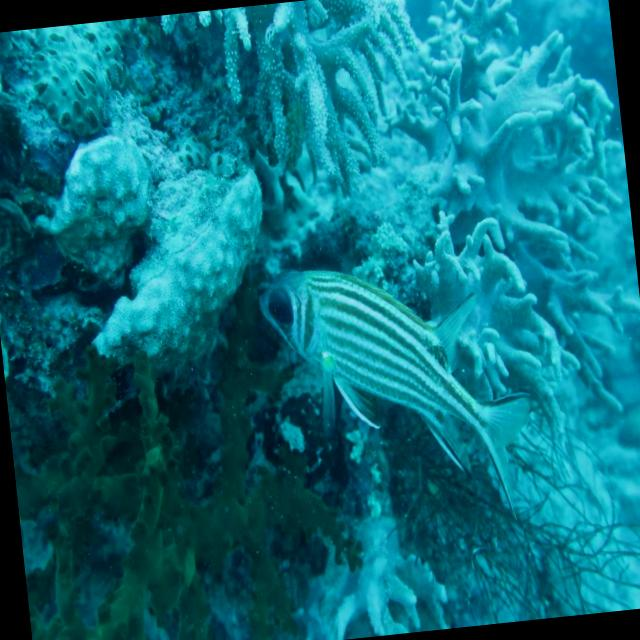Asker Baligi: (253, 241, 545, 545)
